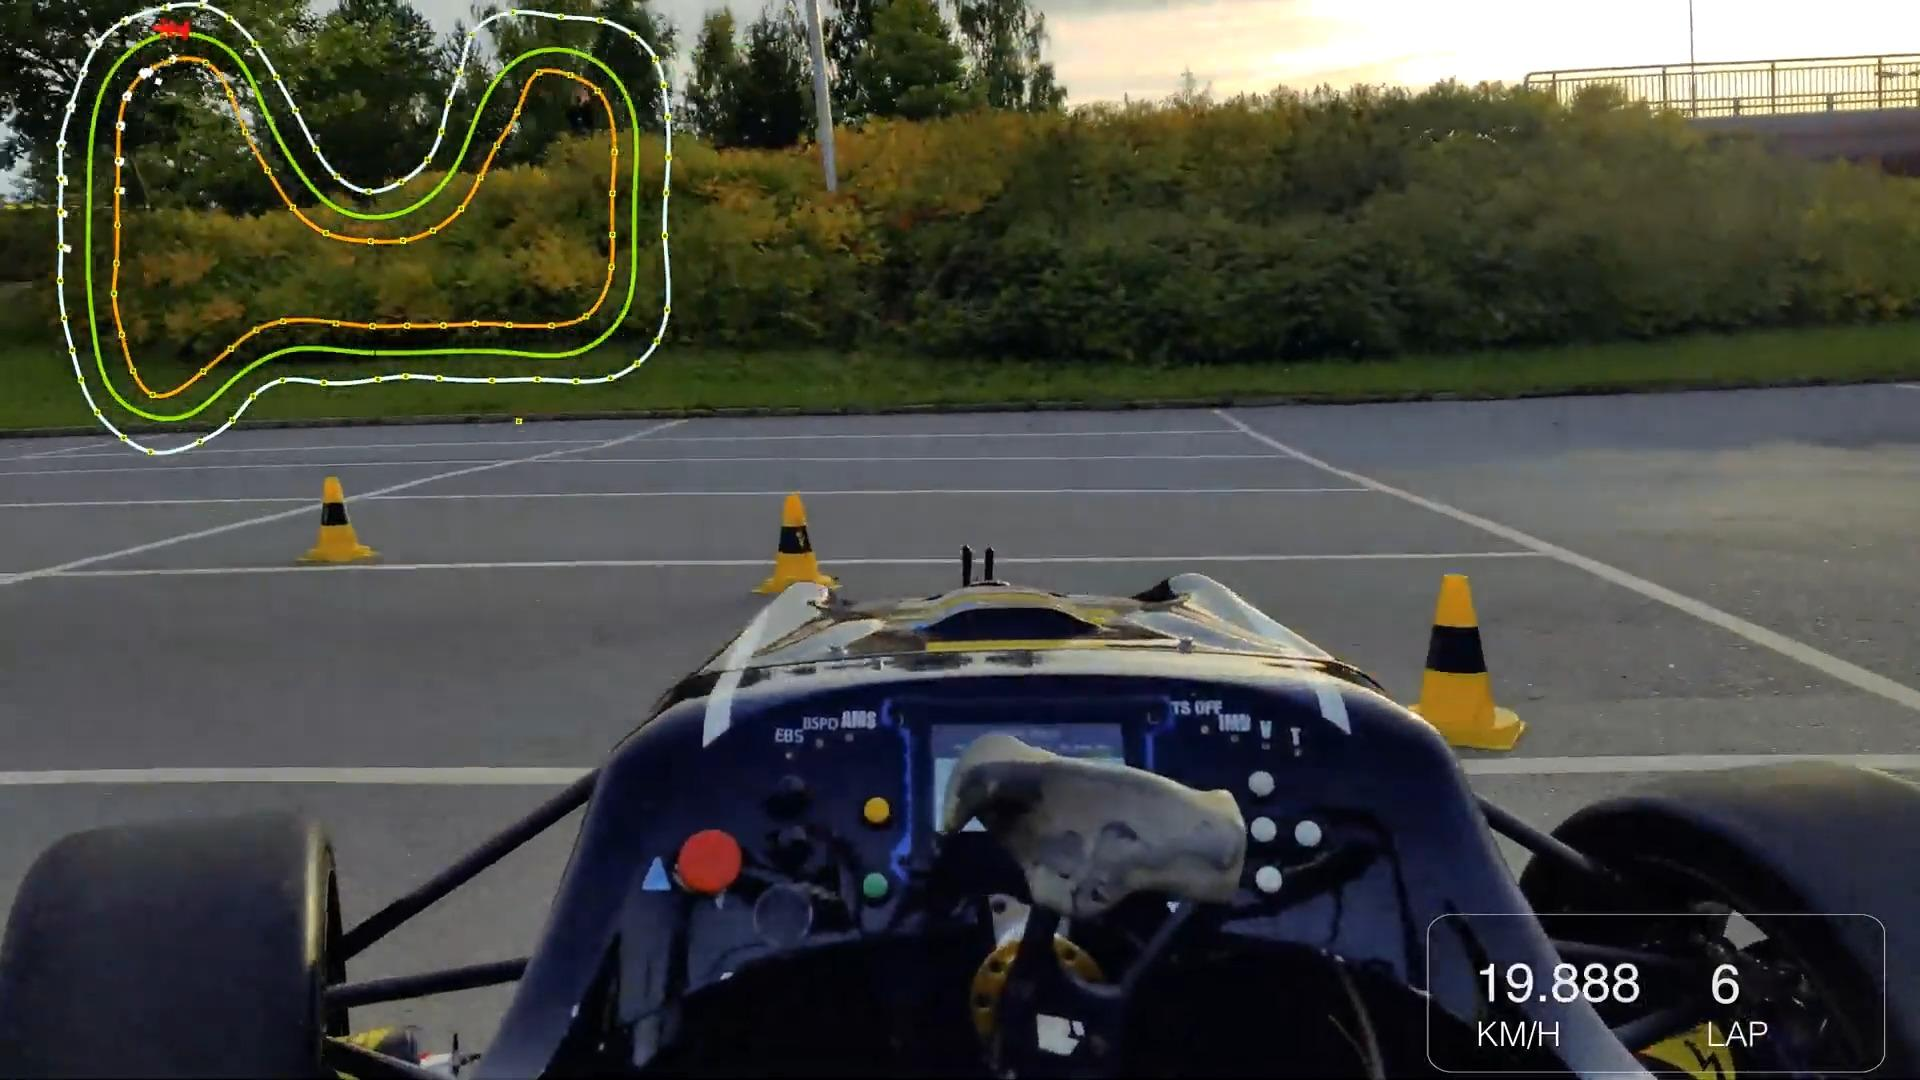yellow_cone: (1411, 568, 1520, 717), (749, 485, 835, 593), (298, 473, 377, 567)
